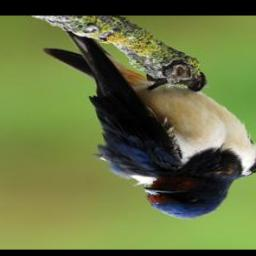Swallow: (40, 28, 256, 220)
